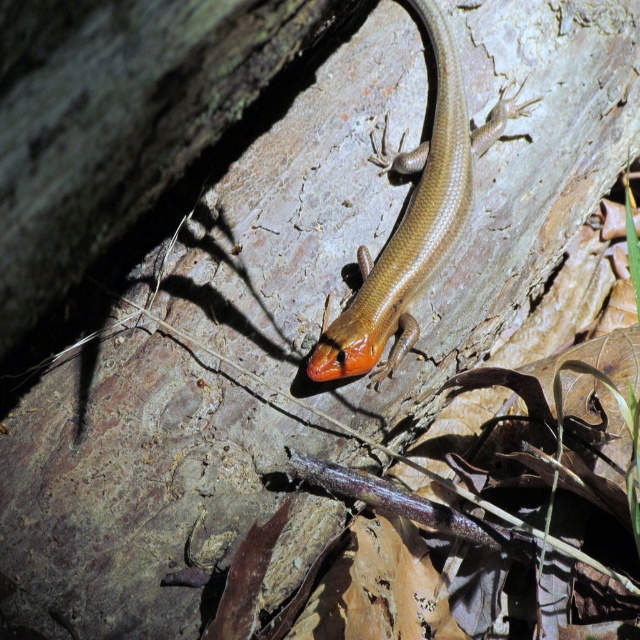Lizard: (311, 12, 528, 415)
